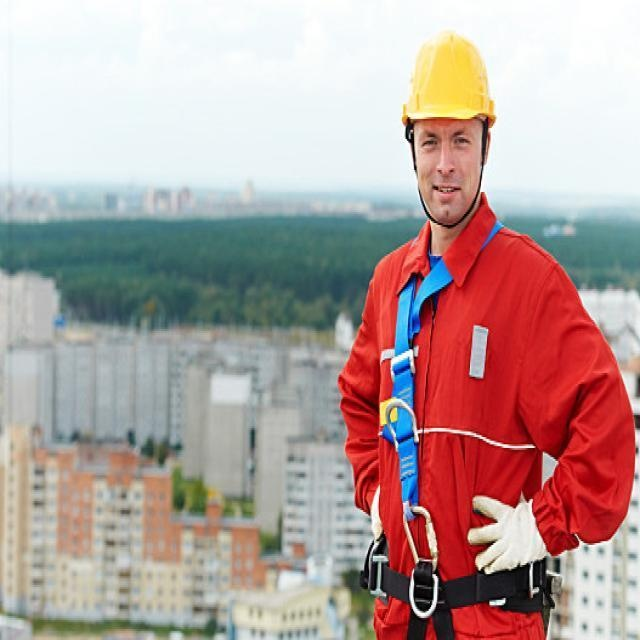Arnes_seguridad: (362, 199, 557, 633)
